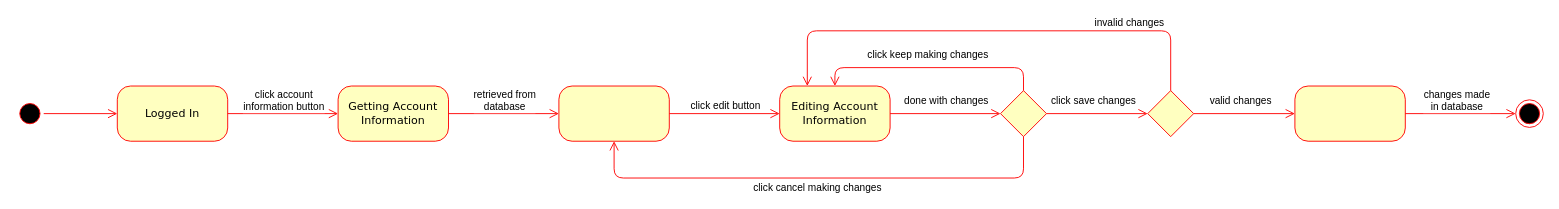
Image size: 1559x209. Some labels were removed from this diagram. The shapes that lost their labels are listed below. From the top down, each one's box as (x1, y1, x2, y2) in pixels, then its label:
(558, 85, 669, 141): Viewing Account Information
(1294, 85, 1405, 141): Editing Database
